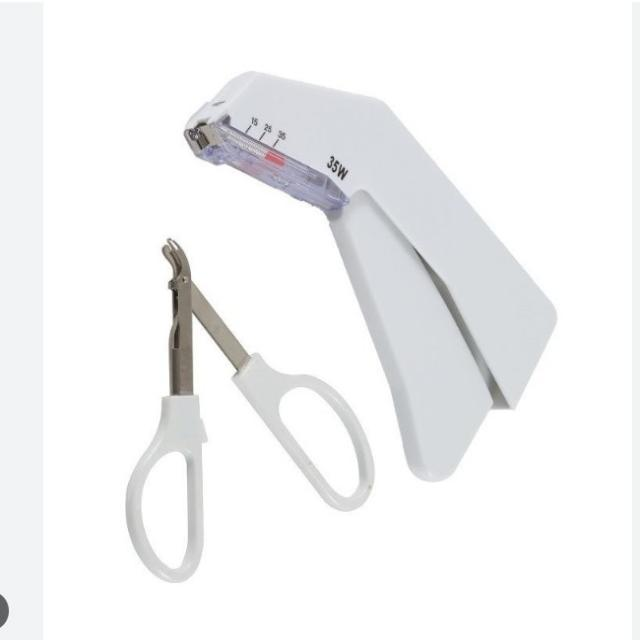Skin Stapler: (176, 54, 567, 482)
Stapler Remover: (109, 234, 375, 586)
